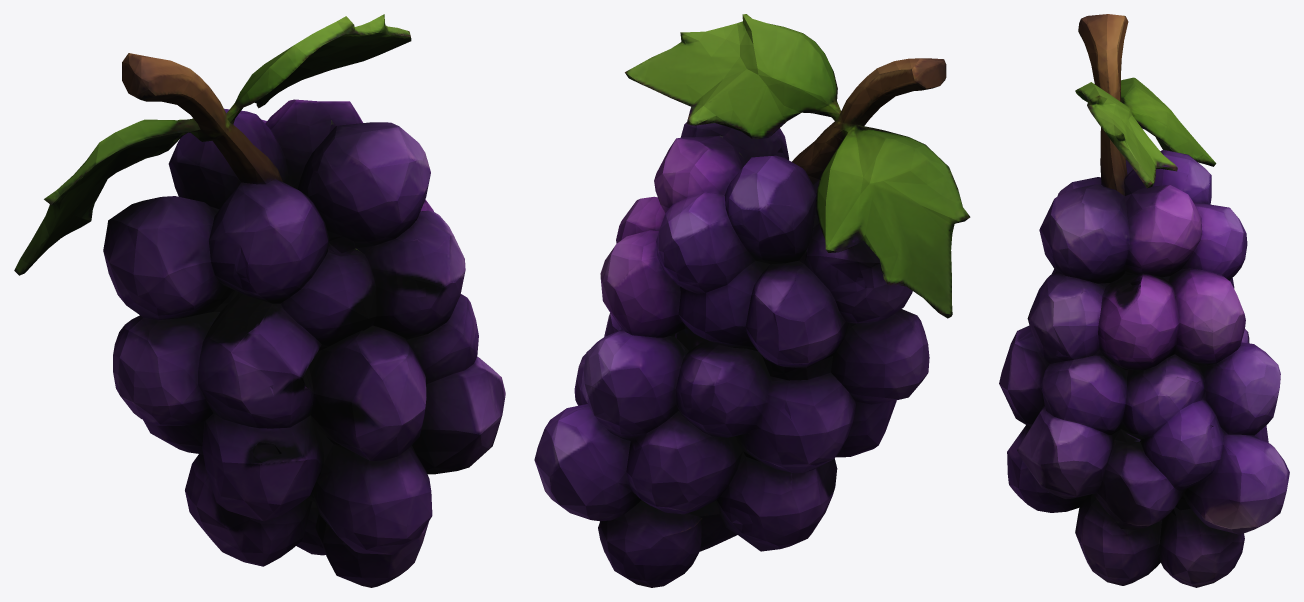
The model's file is grape-cluster.glb.
The picture shows the model from 3 angles, left to right: view 1: azimuth 30°, elevation 25°; view 2: azimuth 150°, elevation 25°; view 3: azimuth 270°, elevation 25°; orthographic projection. The views are drawn at different scales.
Visible parts, largest first — view 1: world; view 2: world; view 3: world.
Boxes of the visible parts, x1,y1,x2,y2 form: world: (14, 14, 505, 587); world: (534, 14, 970, 587); world: (999, 14, 1289, 587).
Size of the model in its own units: 0.4621 by 0.6337 by 0.349.
Materials: 1 (1 with a texture image).
